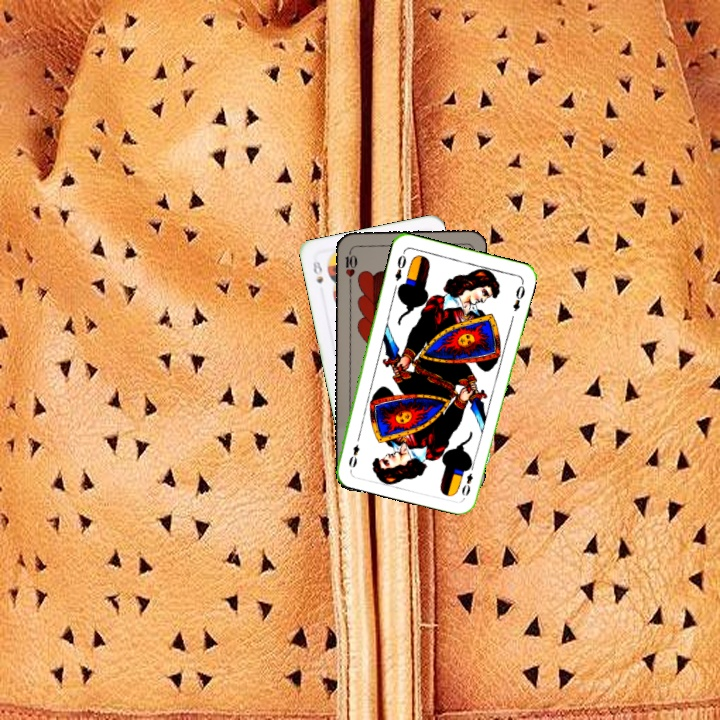EO: (458, 460, 477, 498), (391, 248, 409, 283)
H10: (341, 246, 360, 286)
S8: (309, 254, 326, 286)
